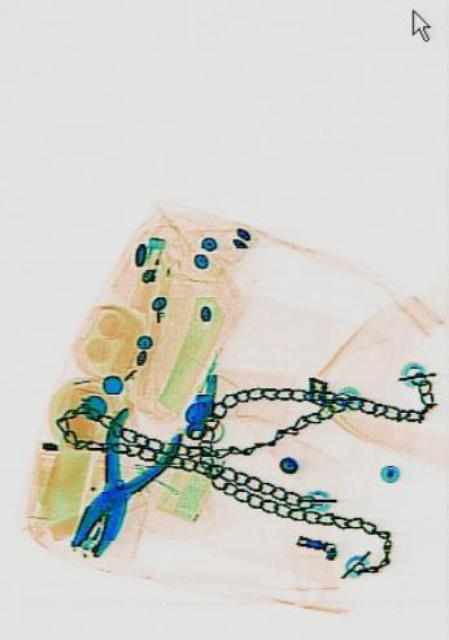Pliers: (53, 387, 183, 579)
